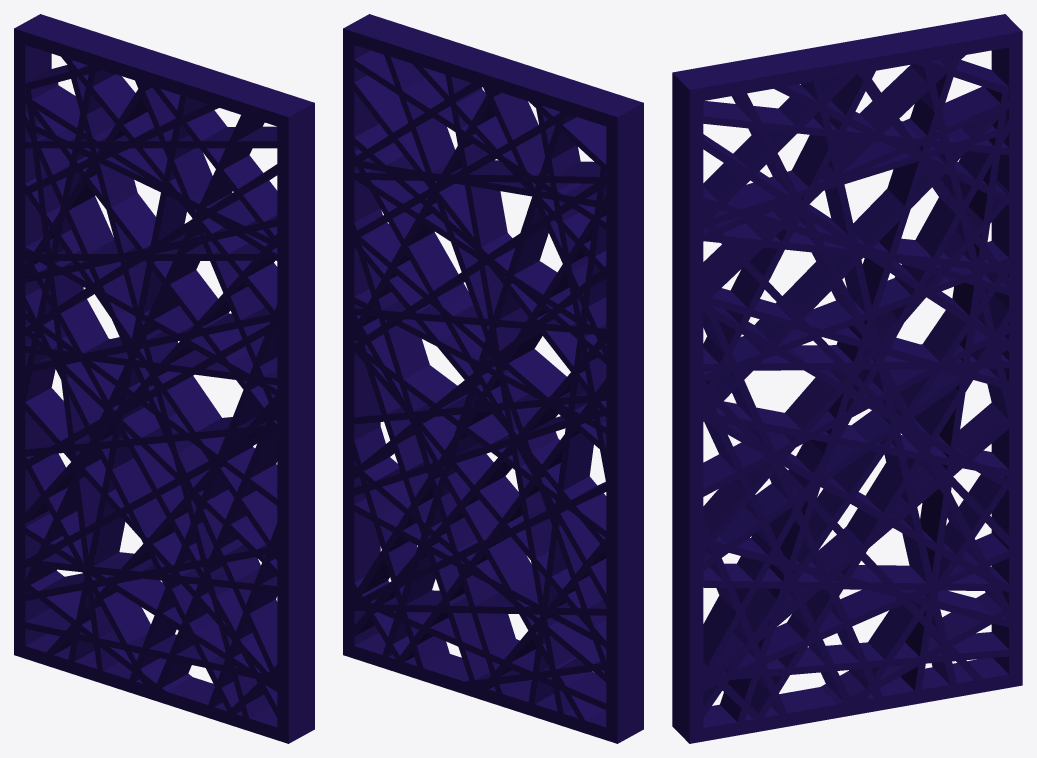
Rendered from uploads_files_2880336_geo_panel.fbx.
3 renders of one model, left to right at view 1: azimuth 30°, elevation 25°; view 2: azimuth 210°, elevation 25°; view 3: azimuth 270°, elevation 25°, orthographic. The views are drawn at different scales.
Parts seen in each view (by area): view 1: Line002; view 2: Line002; view 3: Line002.
Boxes of the visible parts, x1,y1,x2,y2 form: Line002: (14,14,314,743); Line002: (343,14,643,743); Line002: (672,14,1022,743).
Size of the model in its own units: 193 by 773 by 376.
